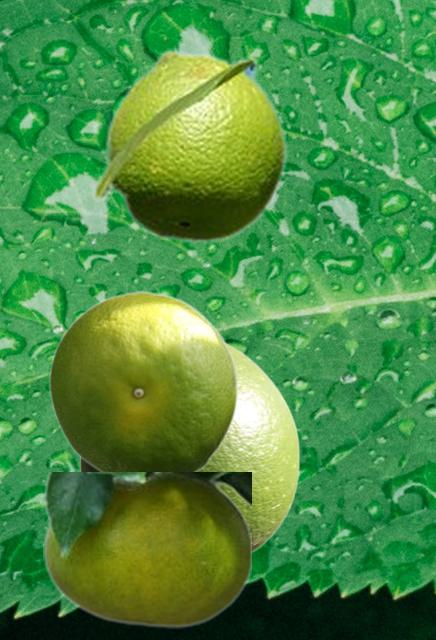dalandan: (79, 342, 299, 553), (90, 48, 288, 244), (48, 290, 237, 471), (43, 472, 250, 627)
